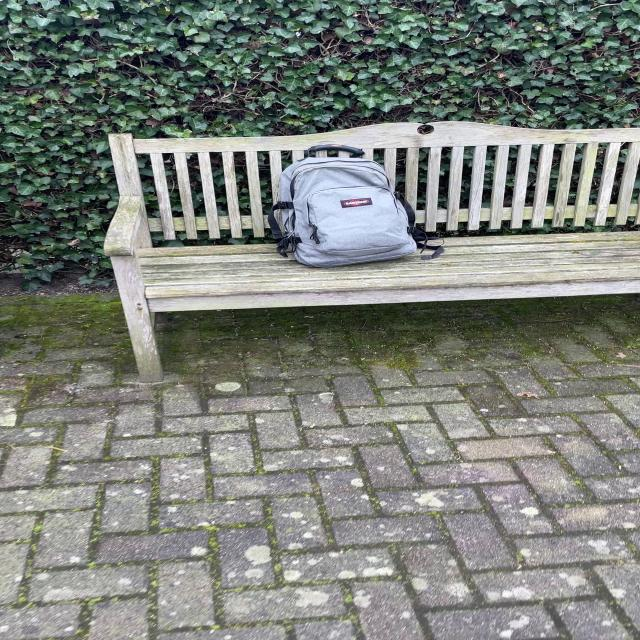backpack: (263, 141, 428, 272)
